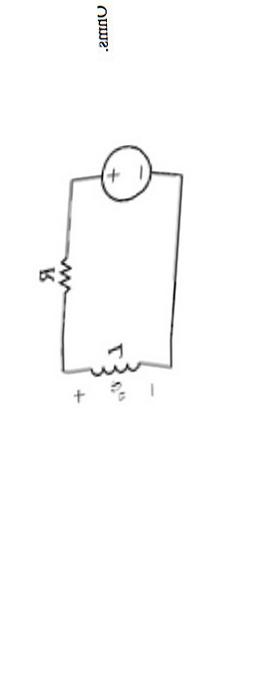Battery: (65, 125, 170, 222)
